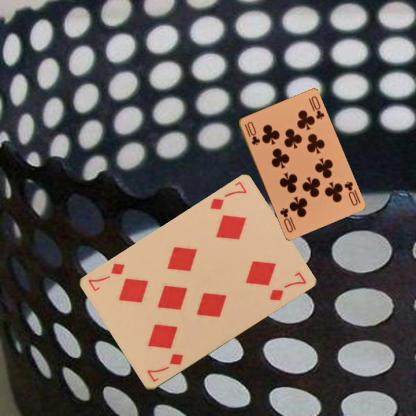10c: (341, 178, 359, 207), (242, 119, 261, 146)
7d: (144, 351, 185, 384), (207, 179, 248, 212)
